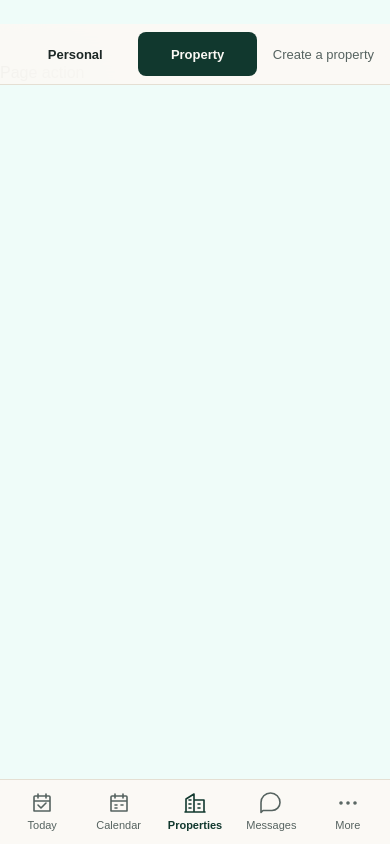
Test: WorkspaceNavigation › gives creation-only users working Properties, Messages and More with an explained unavailable Calendar
The width and height of the screenshot is (390, 844).
Click the button "Calendar".
click(119, 812)  # box [80, 780, 157, 843]
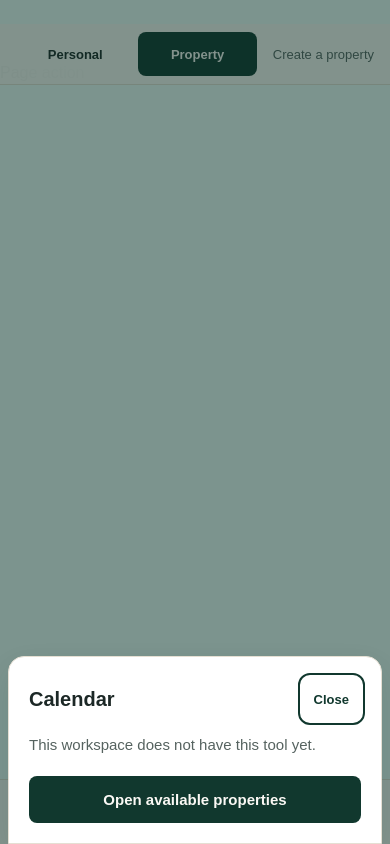
expect the text "This workspace does not have this tool yet." is shown: met, box [29, 733, 361, 756]
